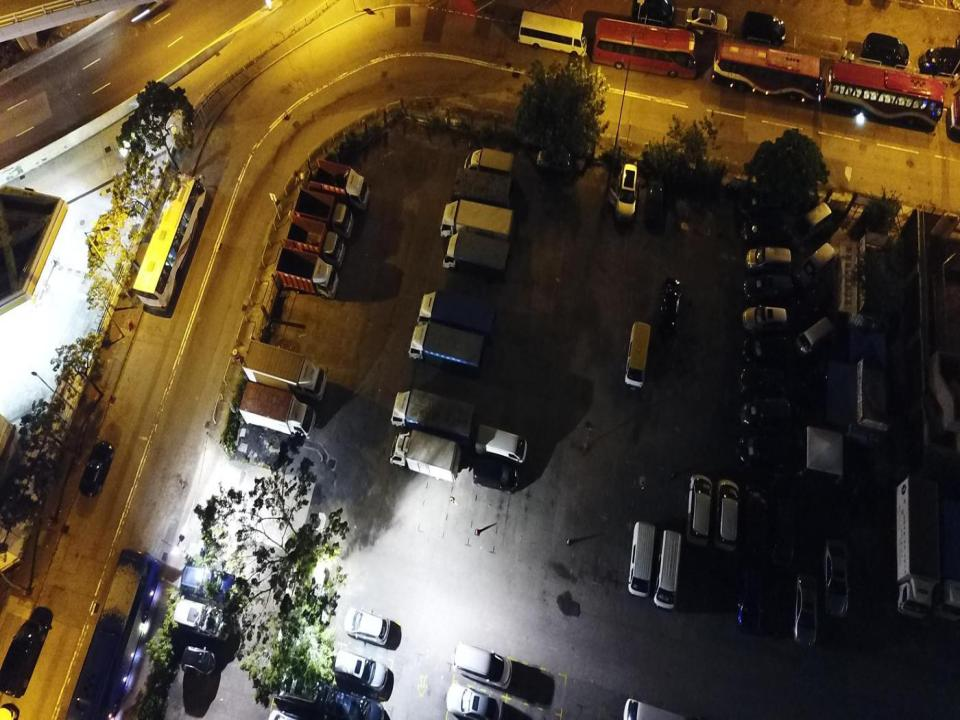bus: (64, 548, 161, 719), (133, 171, 208, 311), (825, 60, 944, 131), (712, 37, 821, 108), (593, 18, 698, 82), (518, 11, 588, 58)
car: (738, 432, 799, 472), (820, 541, 850, 619), (444, 684, 503, 719), (79, 440, 114, 498), (794, 571, 817, 648), (326, 689, 385, 719), (740, 398, 794, 430), (474, 459, 520, 496), (797, 275, 832, 323), (345, 610, 392, 644), (615, 162, 641, 223), (738, 569, 762, 632), (740, 368, 790, 397), (656, 276, 680, 336), (685, 5, 728, 38), (744, 334, 790, 364), (645, 176, 668, 230), (180, 646, 217, 679), (743, 304, 788, 331), (927, 47, 960, 70)
truck: (891, 472, 940, 624), (242, 337, 327, 399), (390, 389, 475, 449), (238, 378, 317, 438), (417, 290, 495, 344), (408, 324, 486, 378), (440, 202, 512, 254), (932, 495, 960, 624), (390, 430, 462, 480), (445, 231, 510, 283), (275, 248, 339, 298), (294, 186, 354, 237), (311, 157, 371, 208), (285, 217, 346, 263), (453, 168, 517, 210), (462, 147, 514, 180)
van: (0, 618, 48, 695), (452, 642, 513, 687), (740, 487, 772, 571), (174, 596, 235, 640), (180, 565, 240, 605), (274, 672, 328, 716), (334, 654, 390, 696), (627, 519, 656, 598), (654, 530, 682, 611), (769, 498, 797, 574), (686, 473, 713, 551), (475, 425, 528, 464), (713, 480, 739, 558), (791, 201, 831, 251), (796, 243, 836, 291), (624, 320, 651, 390), (797, 314, 832, 360), (622, 697, 689, 719), (864, 33, 909, 65), (743, 10, 788, 41), (744, 272, 792, 300), (742, 220, 788, 247), (632, 0, 678, 26), (746, 247, 791, 273)
